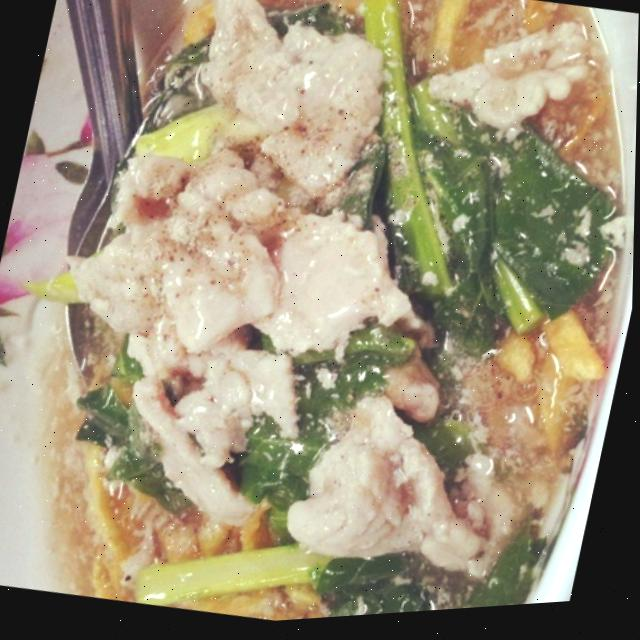面条主食: (3, 0, 640, 639)
